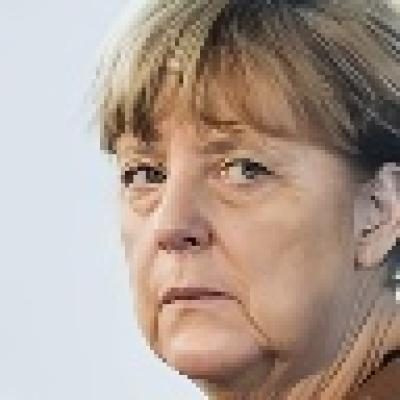sad: (111, 46, 336, 362)
